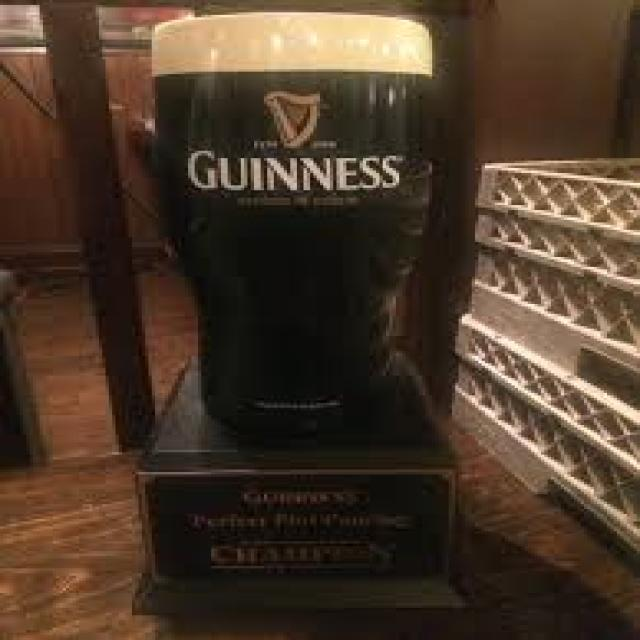guiness_full_glass: (151, 18, 442, 435)
